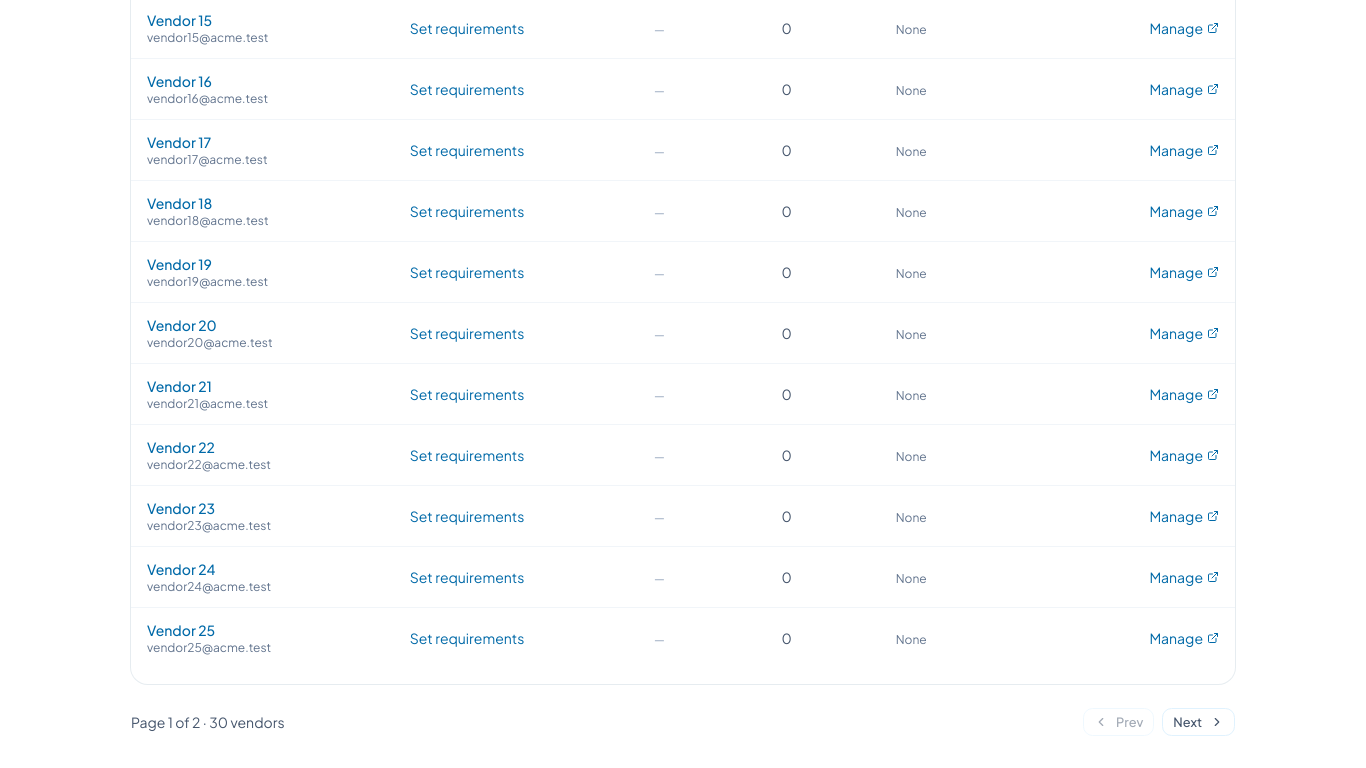
VendorsPage — client-side search + pagination (#187) › searching from a later page snaps back to page 1 (#187)
(page scrolled)
Click the button "Next" at (1199, 722), box [1162,708,1235,736]
(page scrolled)
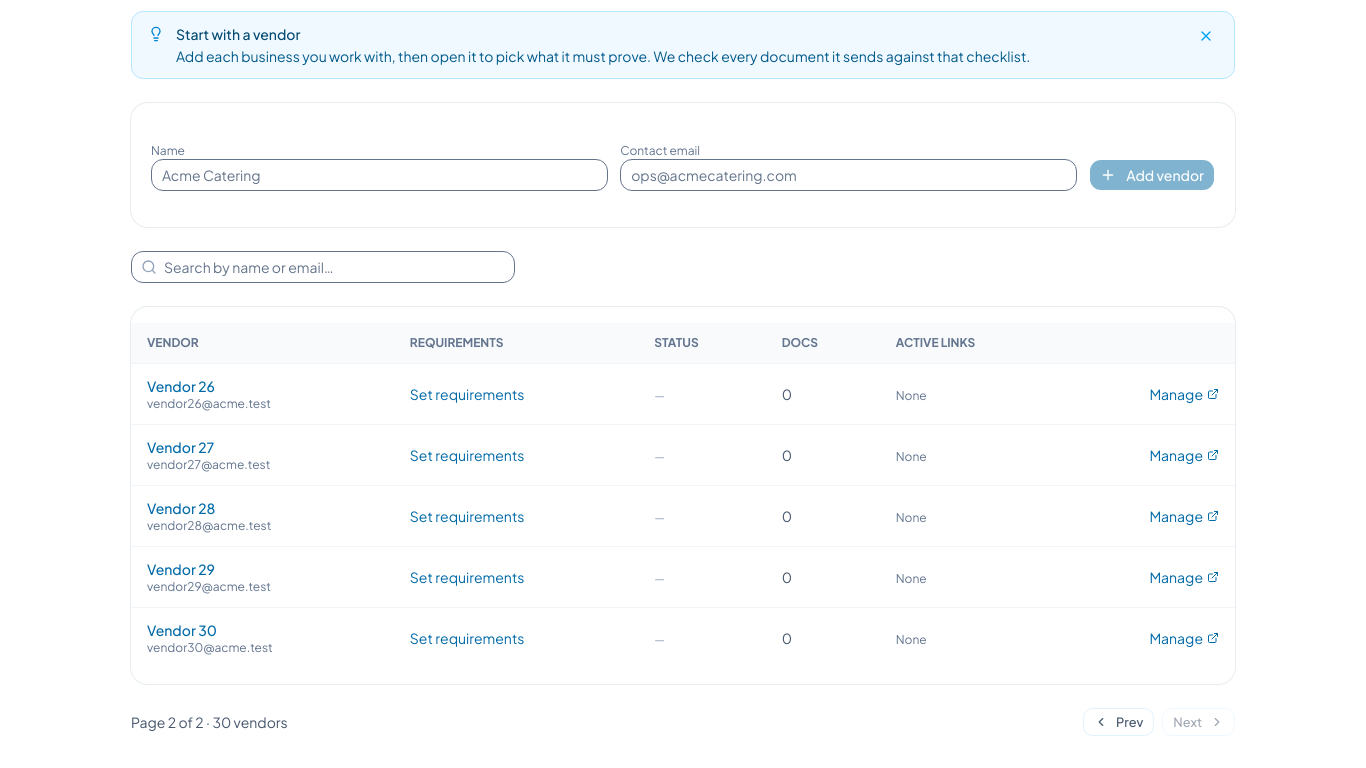
Now the text "Page 2 of 2 · 30 vendors" is shown, box [131,712,288,732]
Type "Vendor" into the field named "search vendors" at (323, 267), box [131,251,515,283]
(page scrolled)
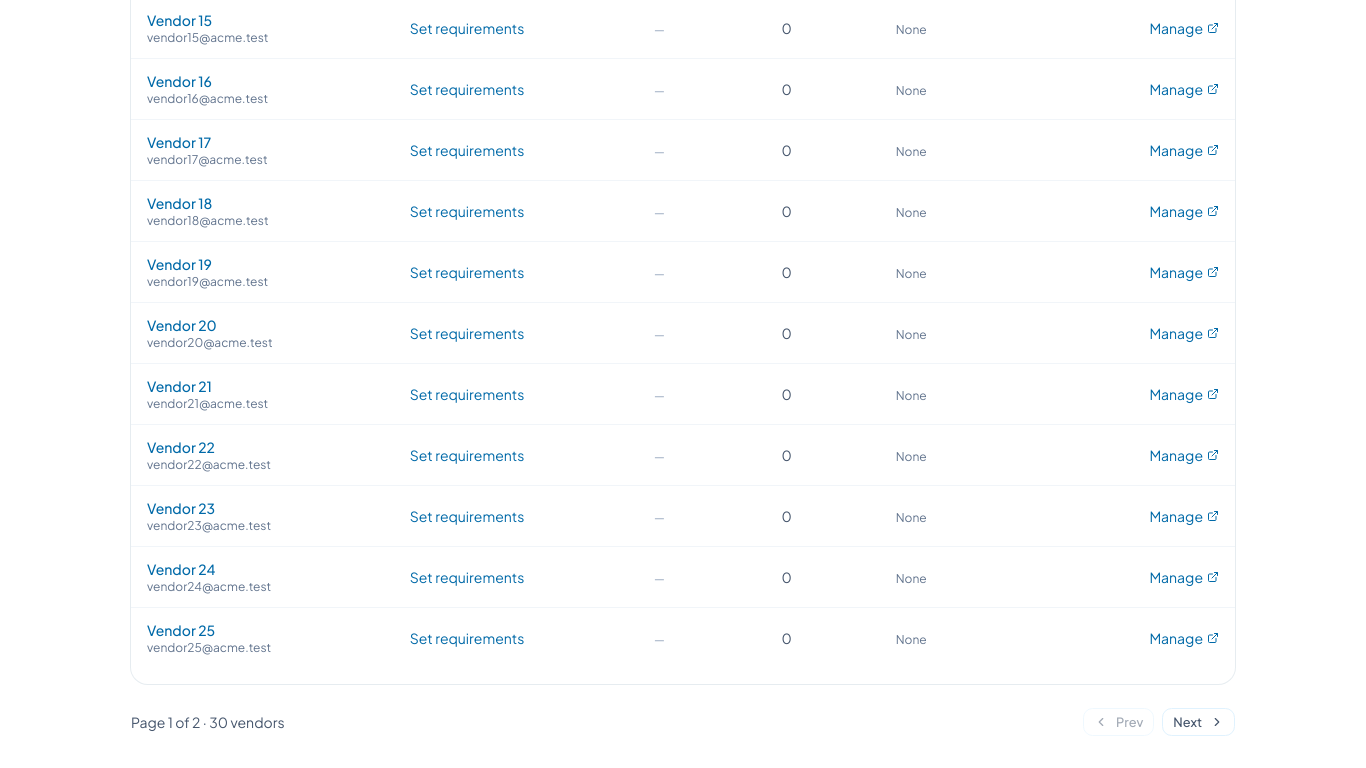
Now the text "Page 1 of 2 · 30 vendors" is shown, box [131,712,284,732]
